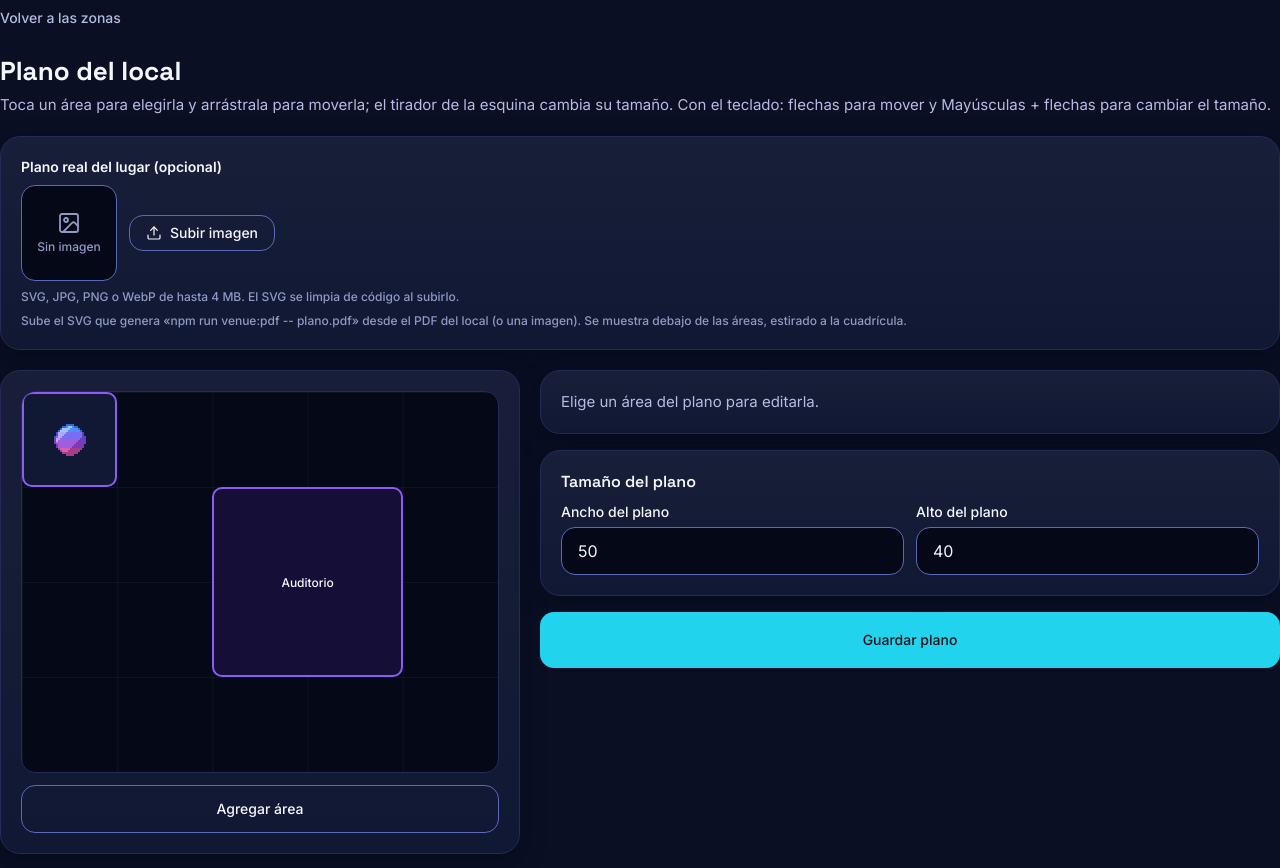
Test: VenueEditor › edits the chosen area's name, kind, quadrant, position and size from the panel
The width and height of the screenshot is (1280, 868).
Click the button named "Stand AI:" at coordinates (70, 440), box [22,392,117,487]
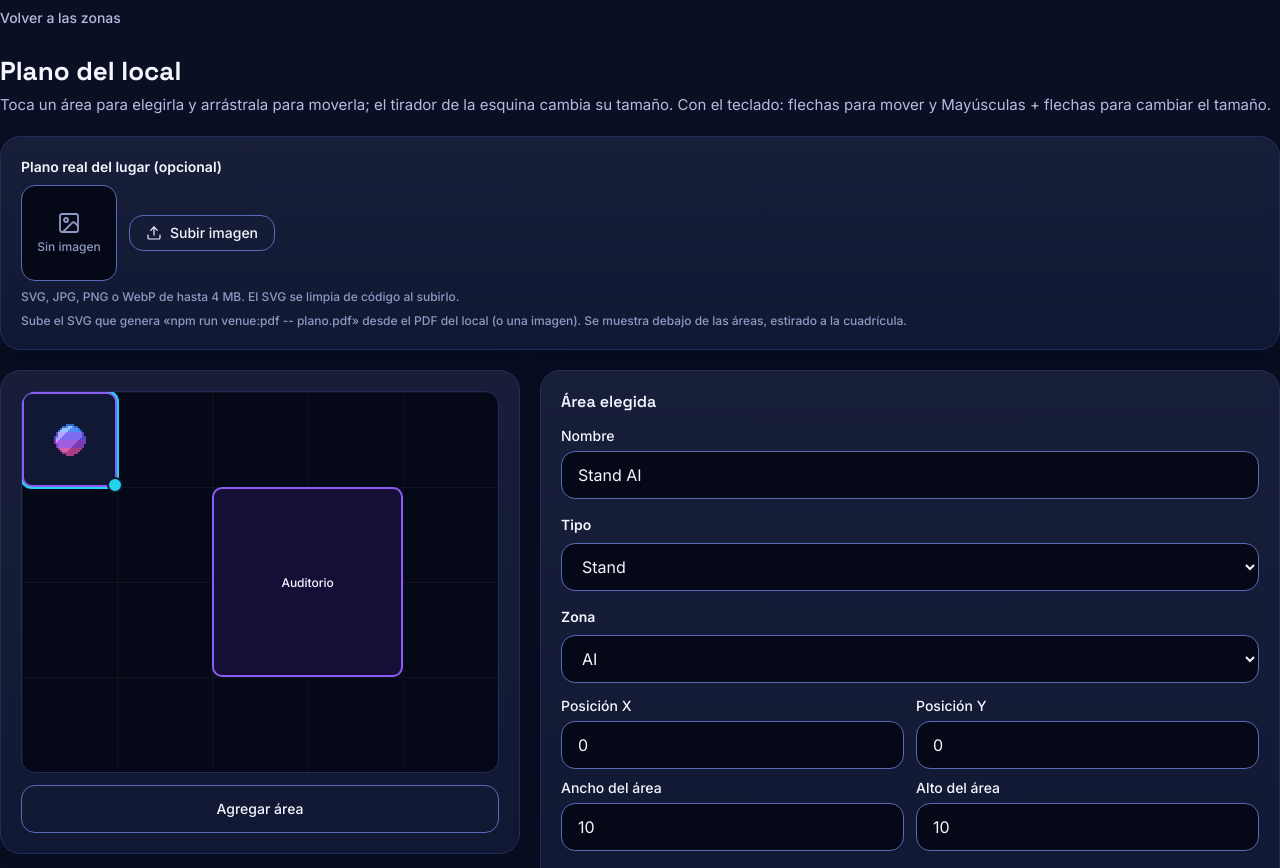
Replace the text in the field labelled "Nombre" with "Stand Gemini" at coordinates (910, 475), box [561,451,1259,499]
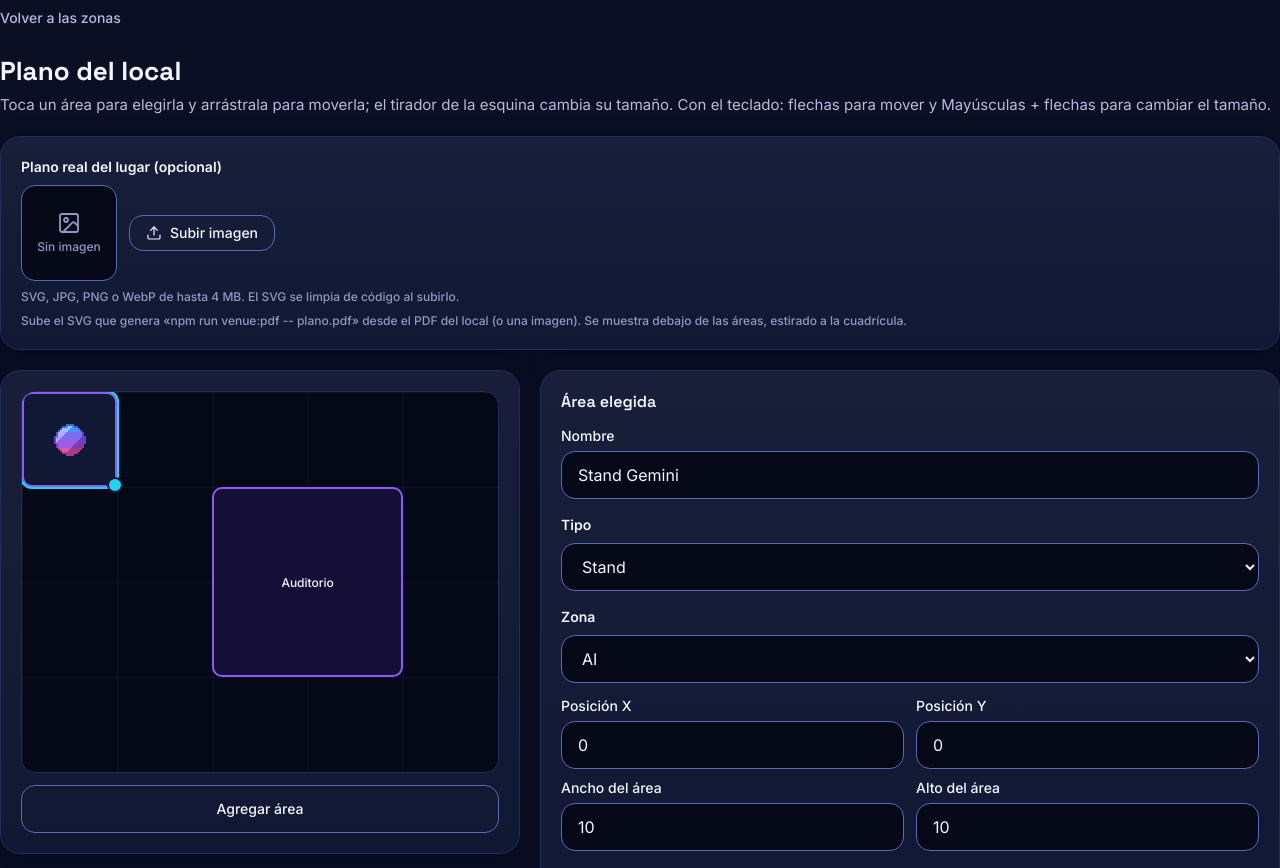
Select "Google Cloud (Inactiva)" in the dropdown labelled "Zona" at coordinates (910, 659), box [561,635,1259,683]
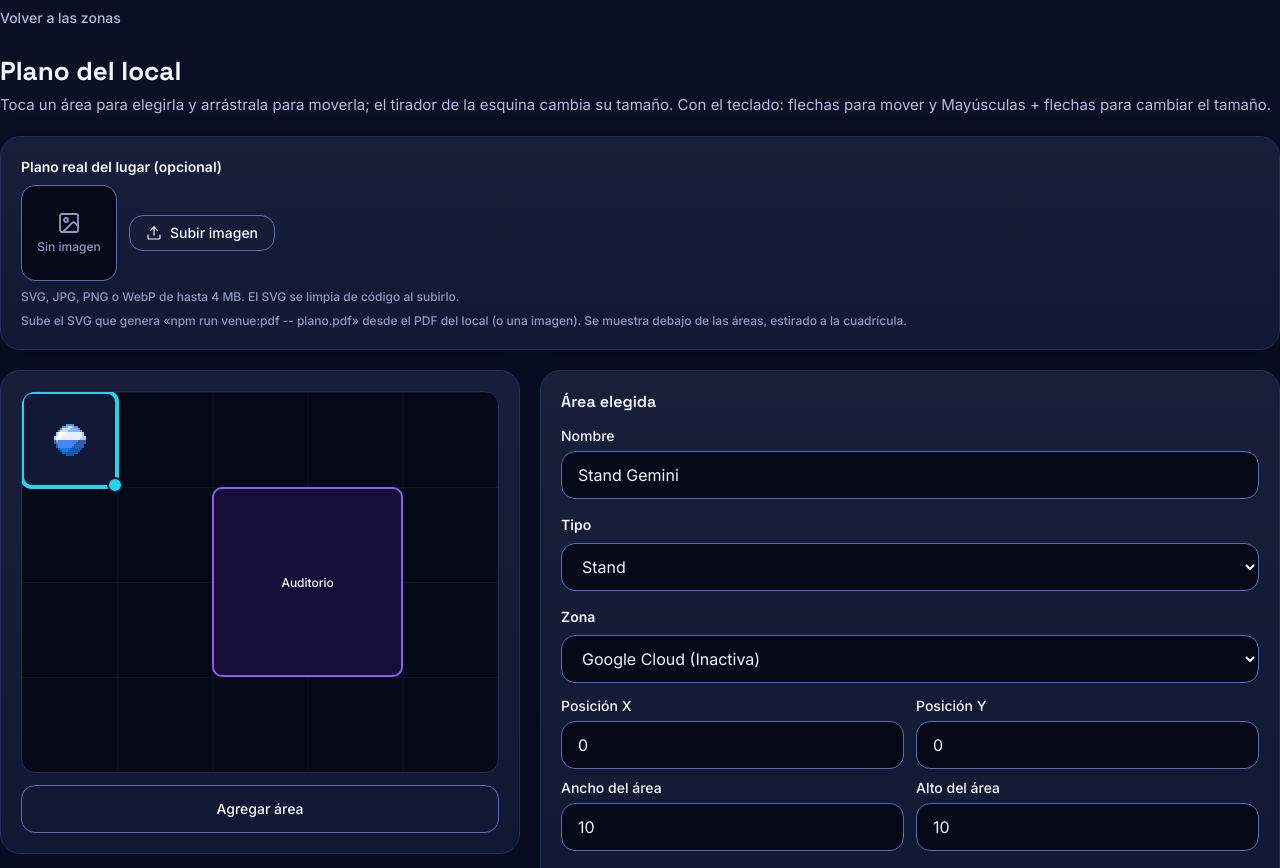
Replace the text in the field labelled "Posición X" with "45" at coordinates (732, 745), box [561,721,904,769]
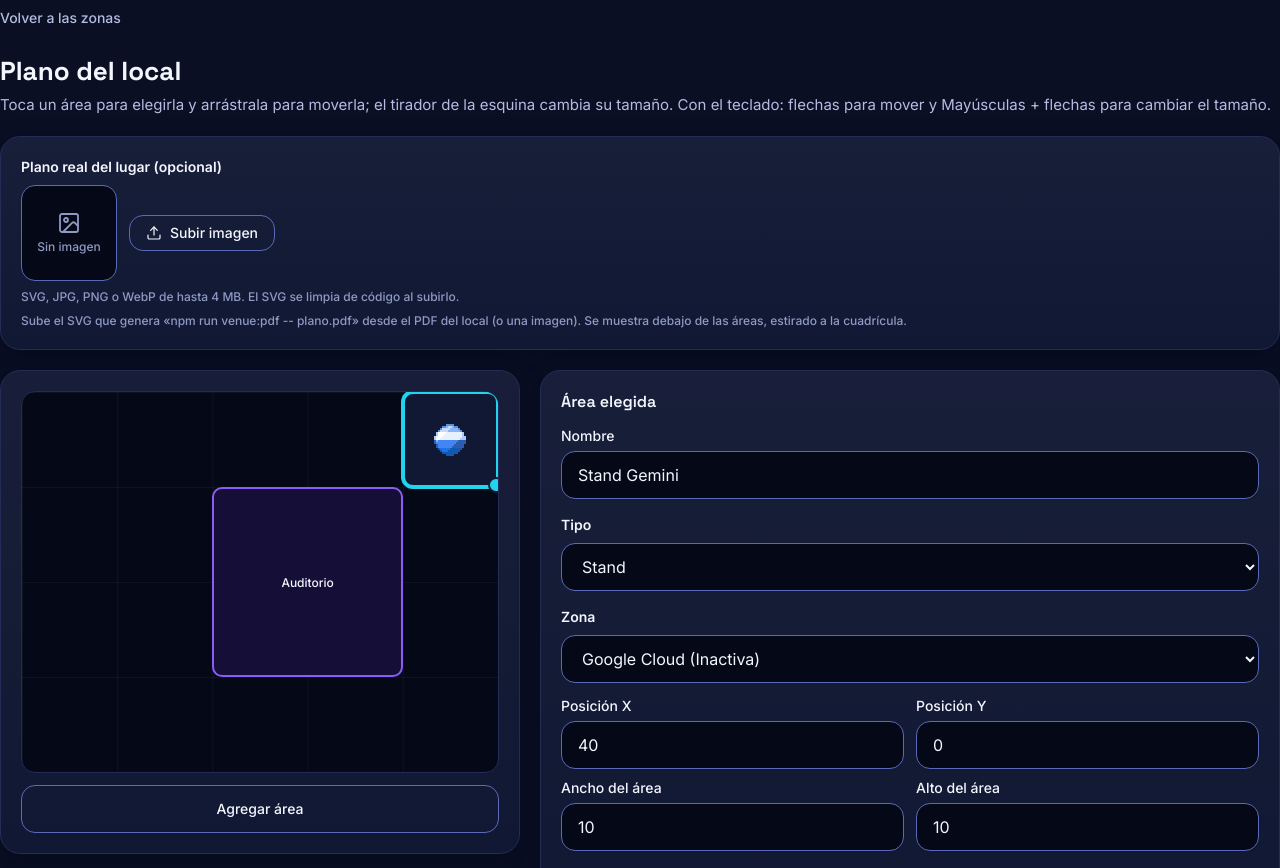
Replace the text in the field labelled "Alto del área" with "12" at coordinates (1088, 827), box [916,803,1259,851]
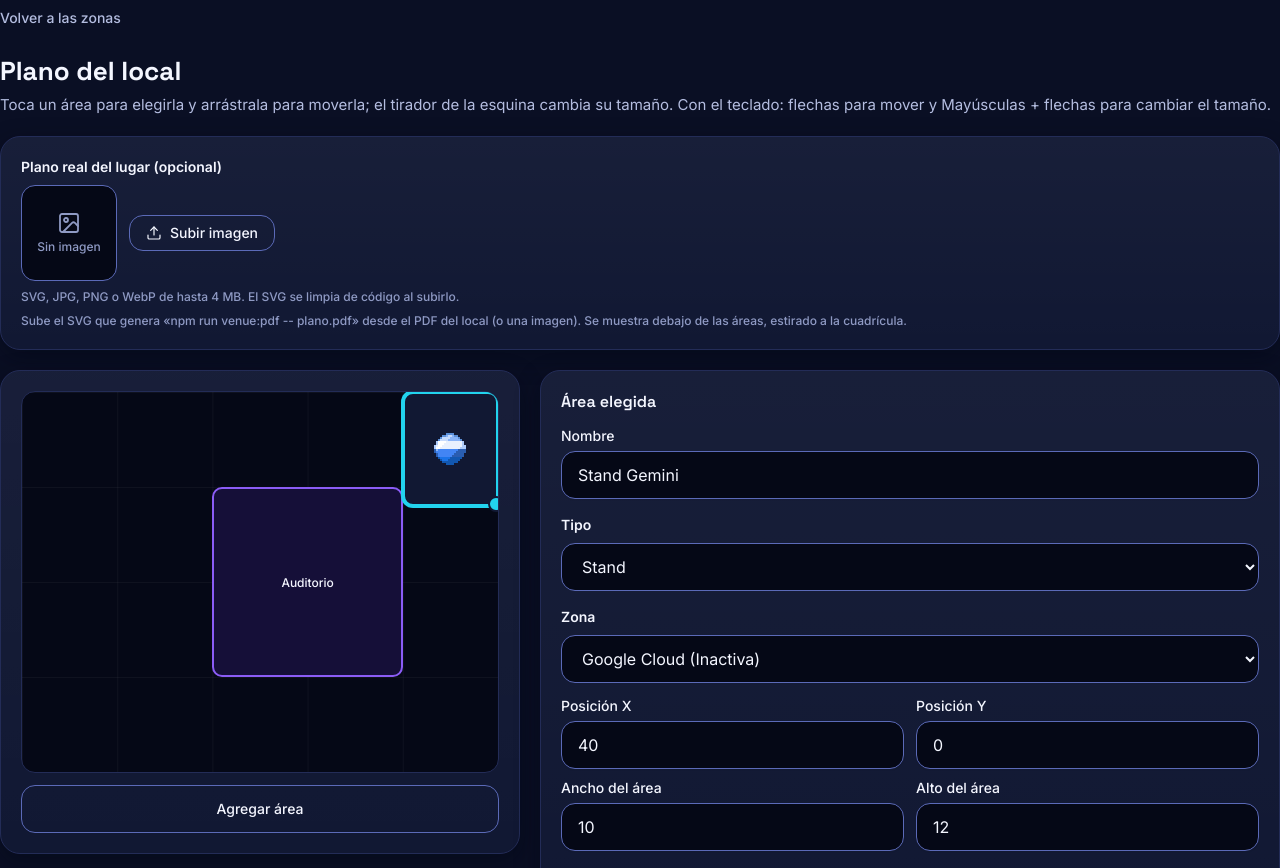
Select "Servicio" in the dropdown labelled "Tipo" at coordinates (910, 567), box [561,543,1259,591]
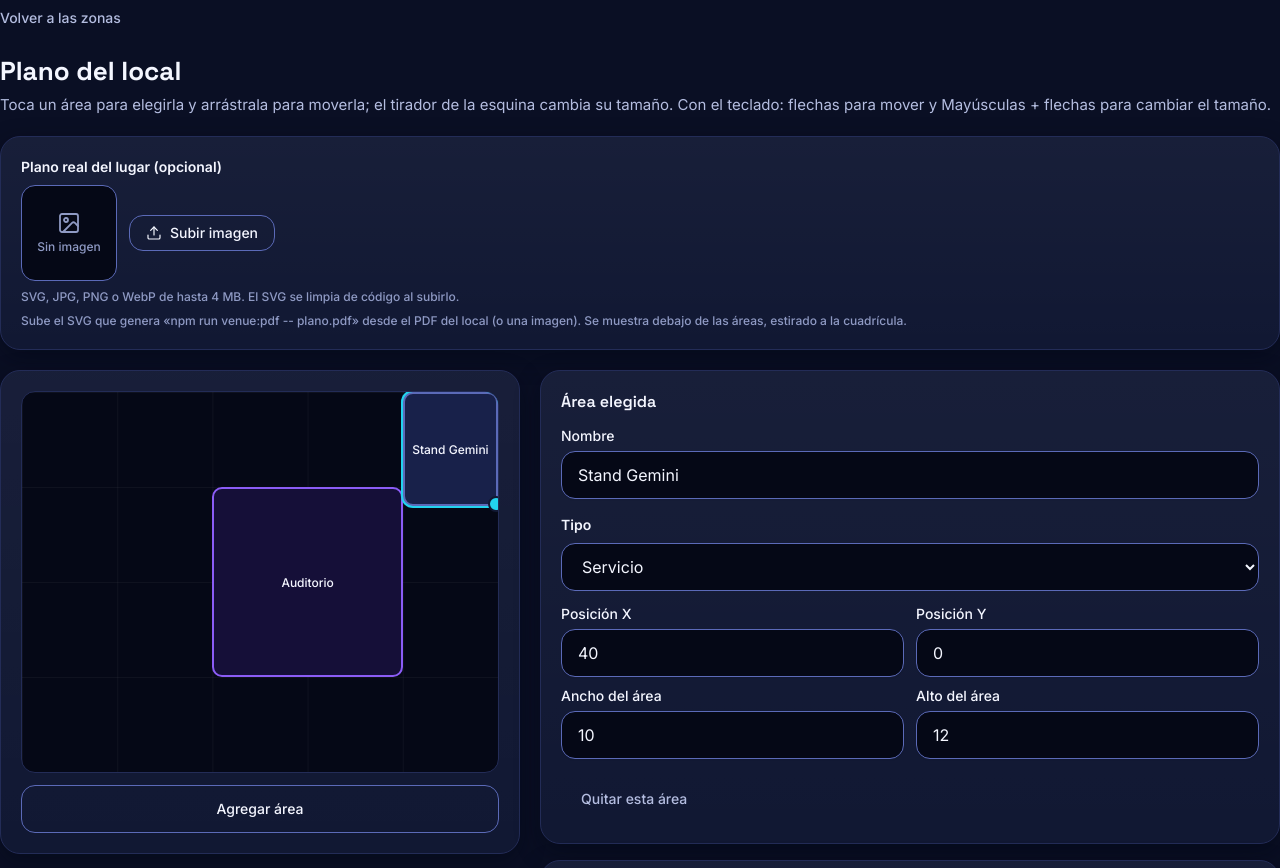
Now the button with aria-label "Stand Gemini:" reads "Stand Gemini", box [403,392,498,506]
